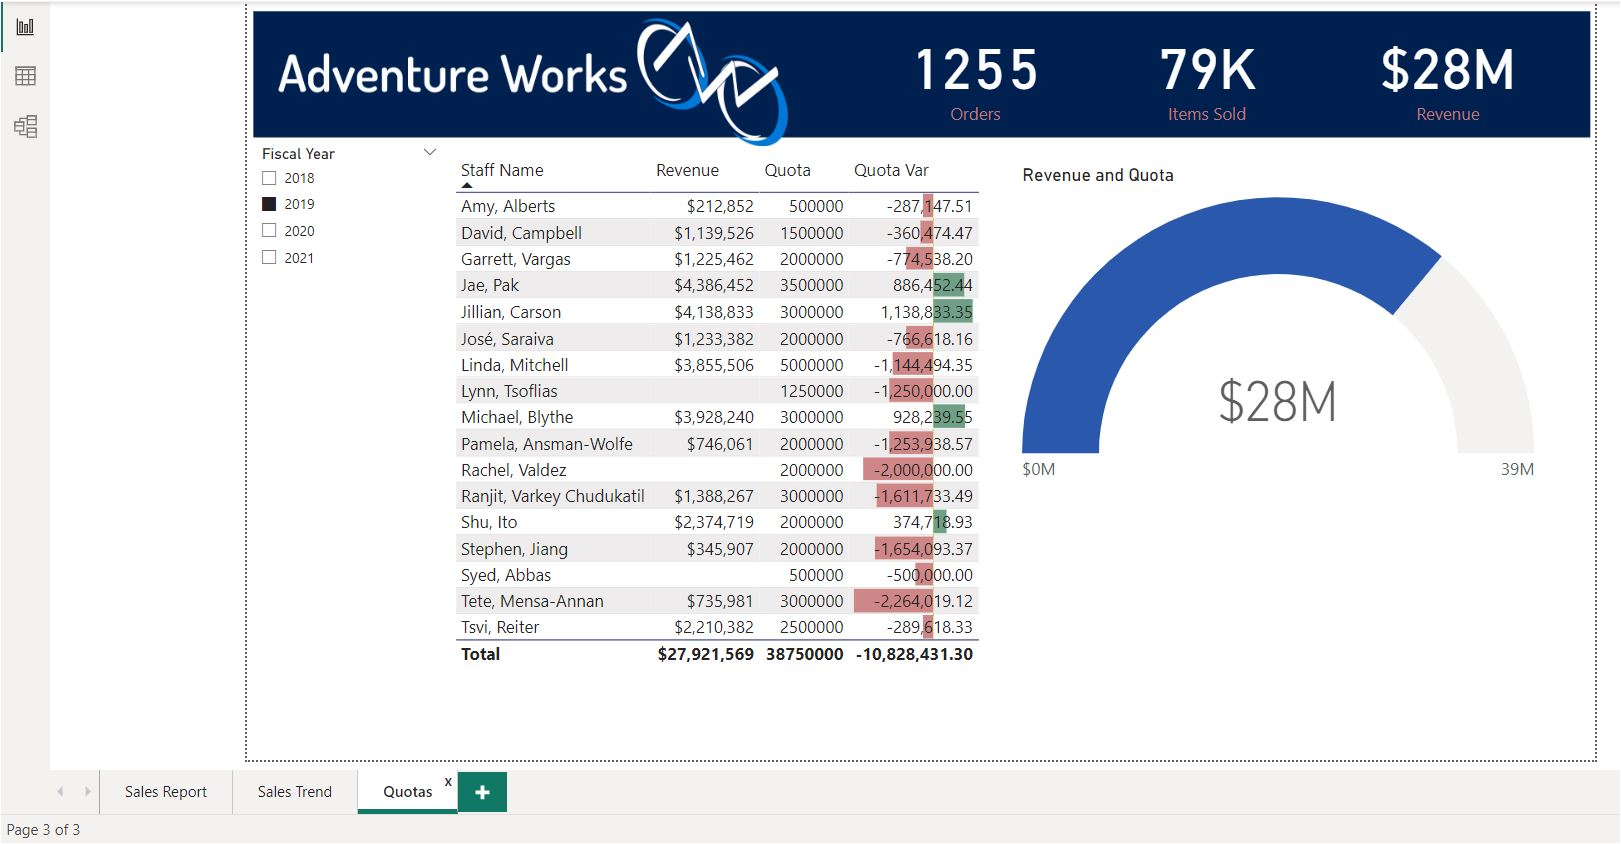

Layout of this report page (visuals, bound fields, positions):
{"tool":"powerbi","page":{"name":"Quotas","canvas":[1280,720],"ordinal":2},"visuals":[{"type":"slicer","fields":{"Values":["Calendar.Fiscal Year"]},"box":[1.2,130.6,191.1,136.5],"z":0},{"type":"image","box":[0.8,0,1279.2,144.7],"z":1000},{"type":"card","fields":{"Values":["Order_Items.Items Sold"]},"box":[799,13.9,226.1,106.6],"z":2000},{"type":"card","fields":{"Values":["Order_Items.Orders"]},"box":[585.8,13.9,213.2,106.6],"z":3000},{"type":"card","fields":{"Values":["Order_Items.Revenue"]},"box":[1025.1,13.9,229.6,106.6],"z":4000},{"type":"gauge","fields":{"Y":["Order_Items.Revenue"],"MaxValue":["Quotas.Quota"]},"box":[731.2,154.3,496.1,318.1],"z":5000},{"type":"tableEx","fields":{"Values":["Staff.Staff Name","Order_Items.Revenue","Quotas.Quota","Quotas.Quota Var"]},"box":[192.3,141.2,509.2,561.4],"z":6000}]}

Visuals, with their boxes on the page's 1280x720 design canvas (x1, y1, x2, y2). These are canvas units, not pixel positions in the 1621x844 screenshot, which may show the page scaled, cropped or inside an application window:
slicer - Calendar.Fiscal Year: select_region(1, 131, 192, 267)
image: select_region(1, 0, 1280, 145)
card - Order_Items.Items Sold: select_region(799, 14, 1025, 120)
card - Order_Items.Orders: select_region(586, 14, 799, 120)
card - Order_Items.Revenue: select_region(1025, 14, 1255, 120)
gauge - Order_Items.Revenue x Quotas.Quota: select_region(731, 154, 1227, 472)
tableEx - Staff.Staff Name x Order_Items.Revenue: select_region(192, 141, 702, 703)
